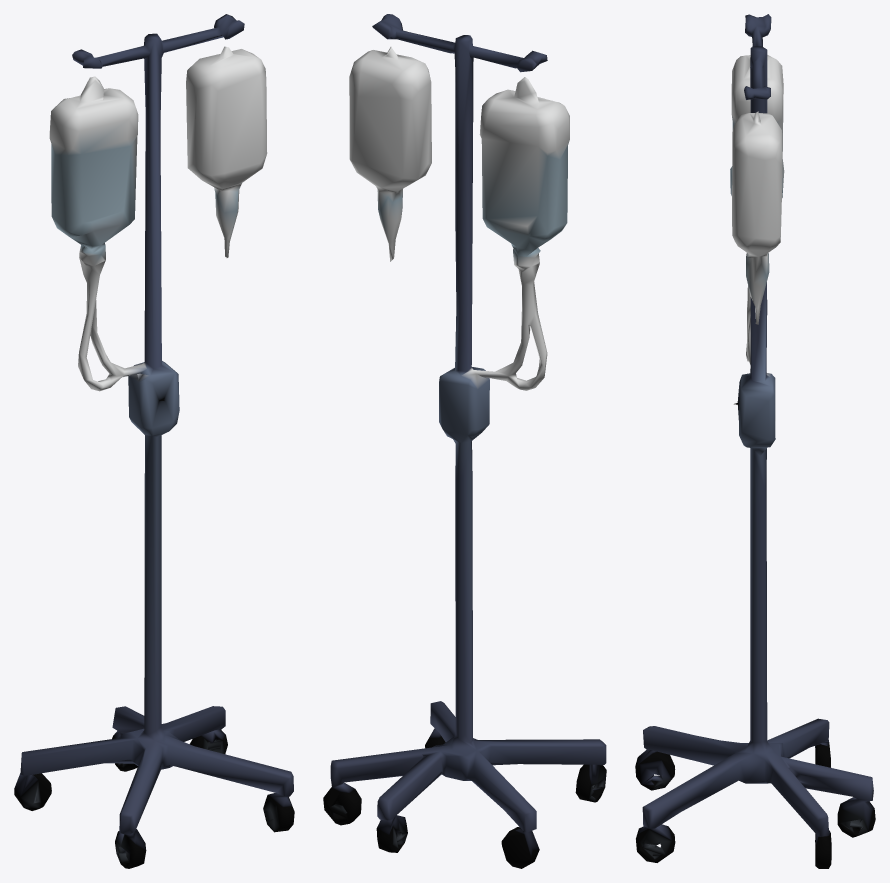
Rendered from gen3d-drip-stand-lod1.glb.
3 renders of one model, left to right at view 1: azimuth 30°, elevation 25°; view 2: azimuth 150°, elevation 25°; view 3: azimuth 270°, elevation 25°, orthographic.
Parts seen in each view (by area): view 1: part_0; view 2: part_0; view 3: part_0.
Boxes of the visible parts, box(x1,y1,x2,y2) form: part_0: box(14, 14, 294, 868); part_0: box(323, 14, 606, 868); part_0: box(635, 14, 875, 868).
Size of the model in its own units: 0.286 by 0.999 by 0.2806.
